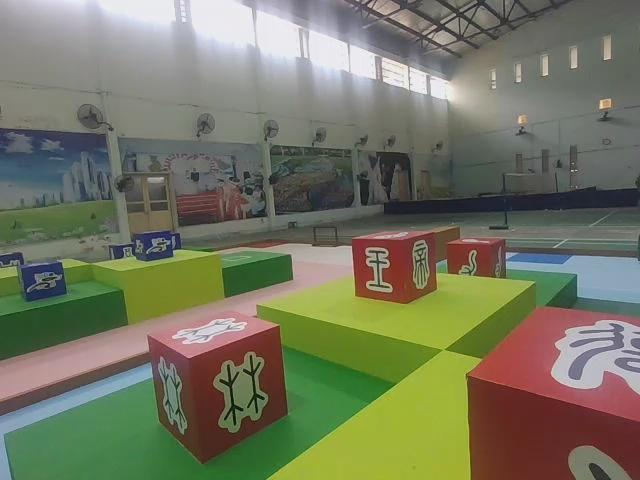R2 Fake: (465, 301, 640, 480), (353, 232, 438, 305)
R2 Real: (147, 314, 287, 464), (443, 233, 508, 282)
